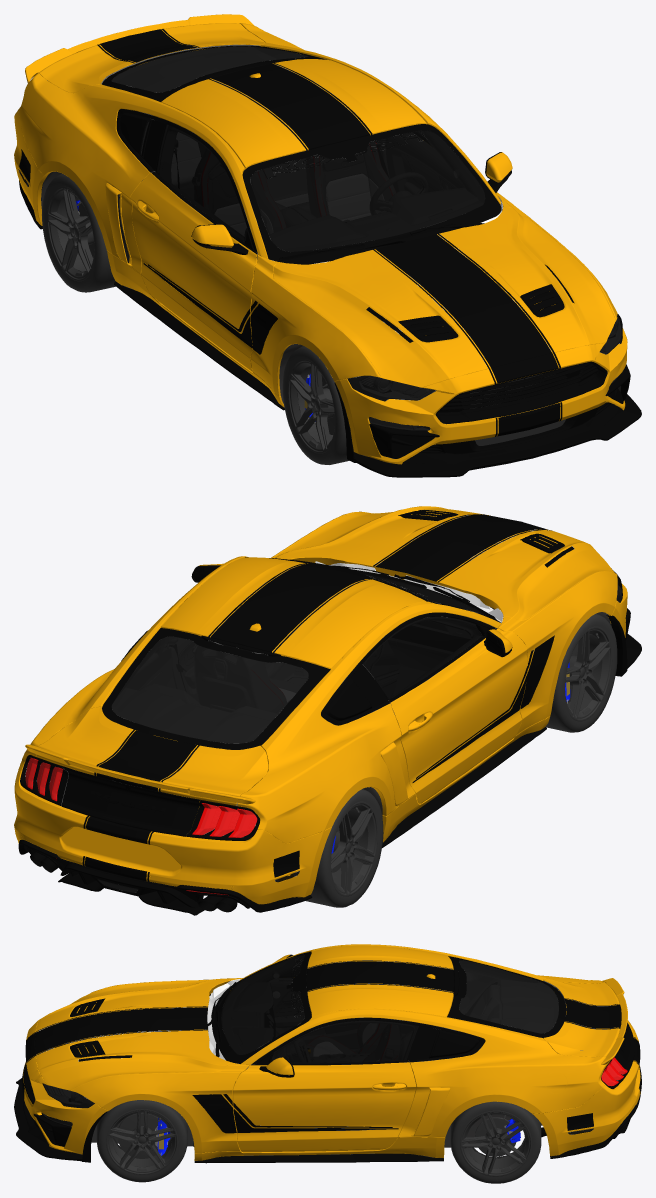
Rendered from mustangroush.glb.
The picture shows the model from 3 angles, top to bottom: view 1: azimuth 30°, elevation 25°; view 2: azimuth 150°, elevation 25°; view 3: azimuth 270°, elevation 25°; orthographic projection. The views are drawn at different scales.
Visible parts, largest first — view 1: Object_13, Object_24, Object_5, Object_16, Object_29, Object_4, Object_9, Object_2, Object_17; view 2: Object_13, Object_24, Object_16, Object_4, Object_29, Object_5, Object_11, Object_22; view 3: Object_13, Object_24, Object_16, Object_28, Object_5, Object_4, Object_22, Object_2, Object_17, Object_11, Object_27.
Part boxes in pixels (left/top/right/bottom): Object_13: left=14, top=14, right=627, bottom=464; Object_24: left=19, top=36, right=641, bottom=477; Object_5: left=18, top=124, right=623, bottom=431; Object_16: left=19, top=29, right=574, bottom=436; Object_29: left=42, top=173, right=349, bottom=464; Object_4: left=111, top=46, right=308, bottom=92; Object_9: left=470, top=374, right=565, bottom=445; Object_2: left=41, top=46, right=608, bottom=463; Object_17: left=47, top=44, right=465, bottom=352; Object_13: left=14, top=506, right=627, bottom=904; Object_24: left=18, top=510, right=641, bottom=915; Object_16: left=83, top=514, right=574, bottom=881; Object_4: left=111, top=636, right=308, bottom=743; Object_29: left=305, top=613, right=617, bottom=907; Object_5: left=97, top=558, right=622, bottom=893; Object_11: left=25, top=757, right=257, bottom=895; Object_22: left=315, top=515, right=574, bottom=652; Object_13: left=23, top=944, right=640, bottom=1160; Object_24: left=14, top=952, right=641, bottom=1163; Object_16: left=22, top=960, right=641, bottom=1133; Object_28: left=96, top=1100, right=541, bottom=1183; Object_5: left=41, top=954, right=593, bottom=1134; Object_4: left=459, top=960, right=558, bottom=1033; Object_22: left=39, top=978, right=241, bottom=1061; Object_2: left=55, top=954, right=623, bottom=1157; Object_17: left=223, top=958, right=611, bottom=1130; Object_11: left=601, top=1057, right=627, bottom=1086; Object_27: left=157, top=1118, right=520, bottom=1155.
Size of what is drawn, in the model's own units: 1.89 by 1.25 by 4.39.
